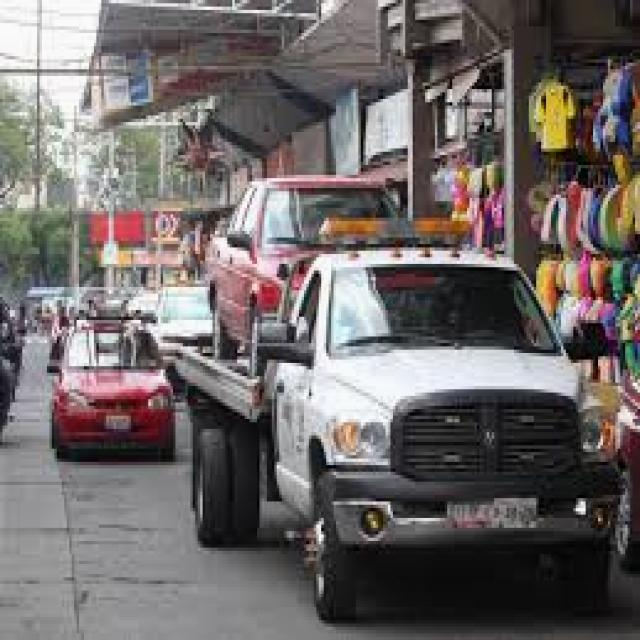CMT: (262, 258, 626, 618)
